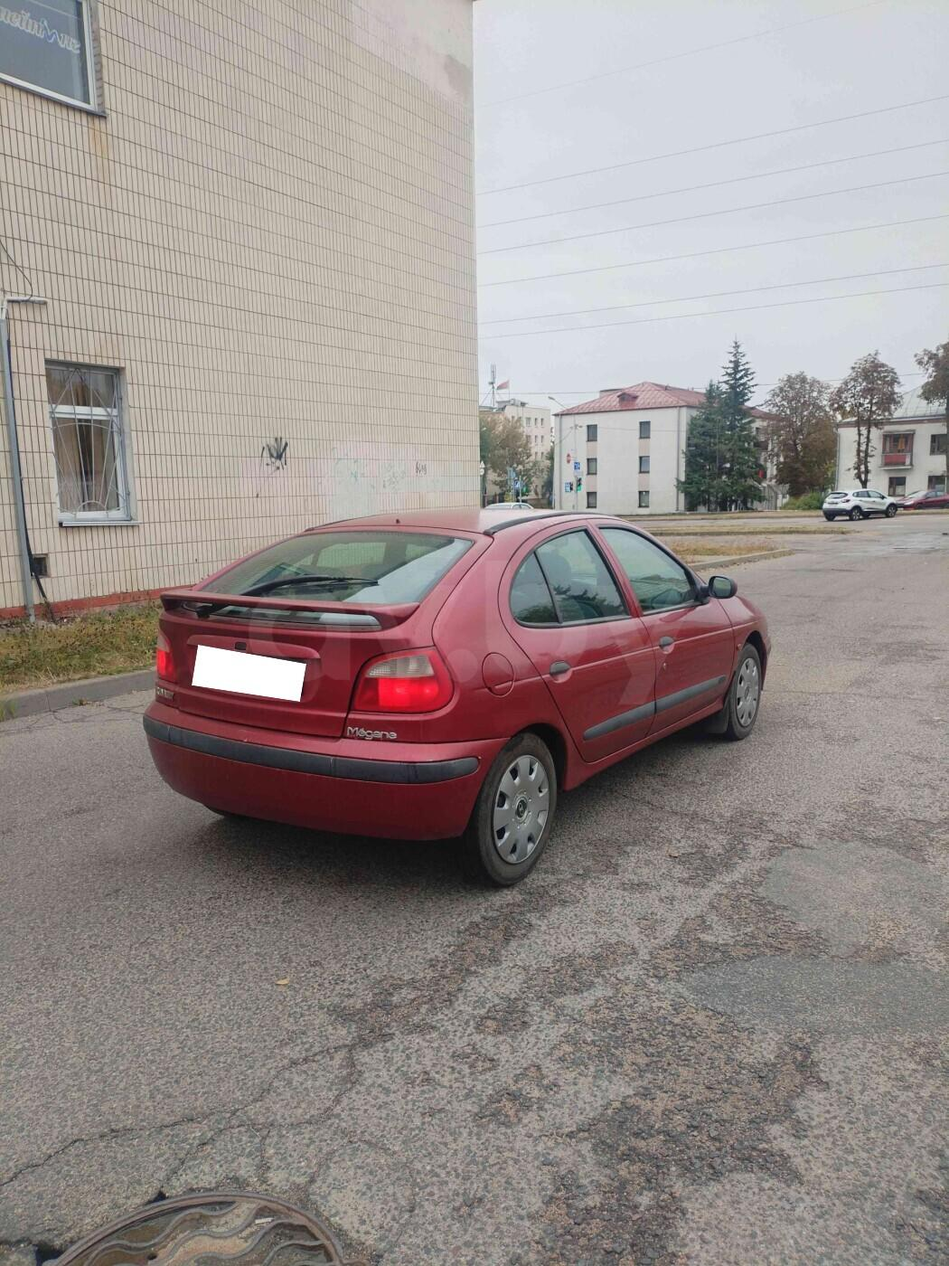Megane_1999-2003: (132, 506, 797, 886)
